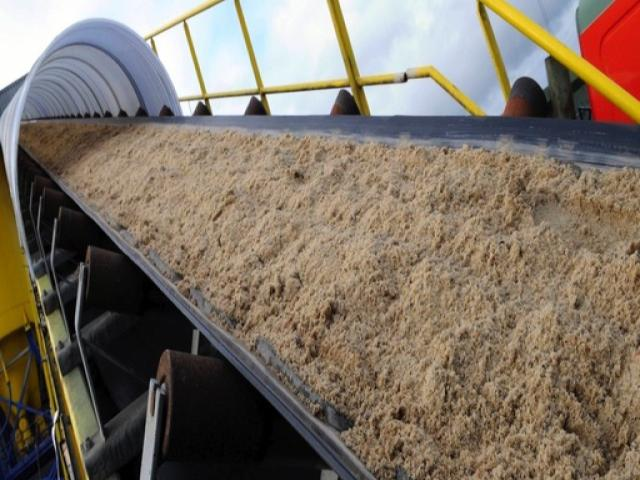conveyor: (17, 106, 640, 480)
